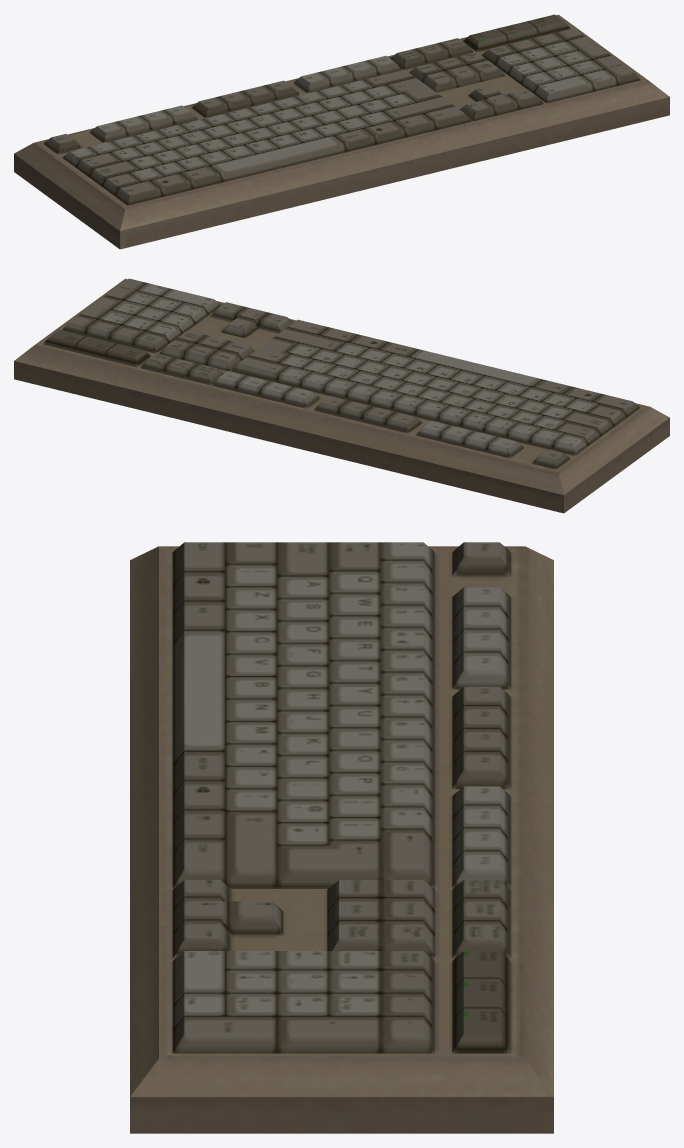
Rendered from pc_keyboard_mp_2.obj.
The picture shows the model from 3 angles, top to bottom: view 1: azimuth 30°, elevation 25°; view 2: azimuth 150°, elevation 25°; view 3: azimuth 270°, elevation 25°; orthographic projection. The views are drawn at different scales.
Parts seen in each view (by area): view 1: pc_keyboard_mp_2; view 2: pc_keyboard_mp_2; view 3: pc_keyboard_mp_2.
Boxes of the visible parts, bbox=[...] form: pc_keyboard_mp_2: bbox=[14, 14, 669, 249]; pc_keyboard_mp_2: bbox=[14, 278, 669, 513]; pc_keyboard_mp_2: bbox=[130, 542, 553, 1133].
Bounding box in the file's own units: 0.55 × 0.037 × 0.1836.
